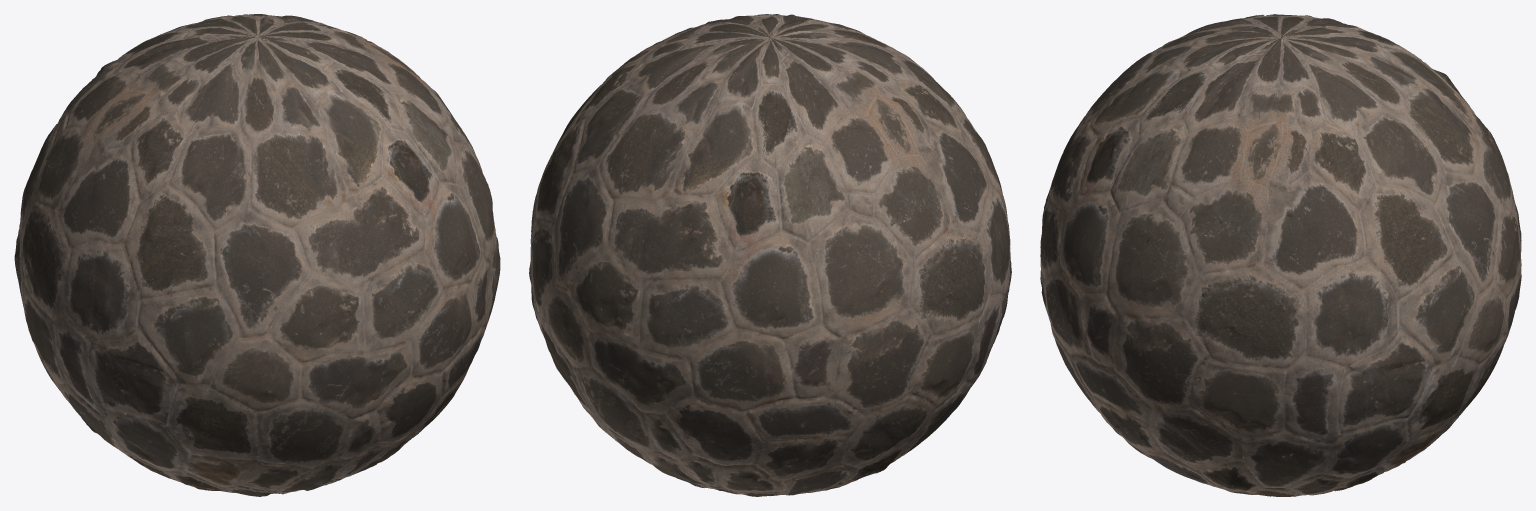
The model's file is rock_wall_12_1k.gltf.
3 views of the same model, side by side, from view 1: azimuth 30°, elevation 25°; view 2: azimuth 150°, elevation 25°; view 3: azimuth 270°, elevation 25° (orthographic).
Visible parts, largest first — view 1: sphere_gltf; view 2: sphere_gltf; view 3: sphere_gltf.
Part boxes in pixels (x1,y1,x2,y2): sphere_gltf: (14, 14, 500, 496); sphere_gltf: (529, 14, 1011, 496); sphere_gltf: (1040, 14, 1521, 496).
Size of the model in its own units: 1.6 by 1.6 by 1.6.
Materials: 1 (1 with a texture image).
